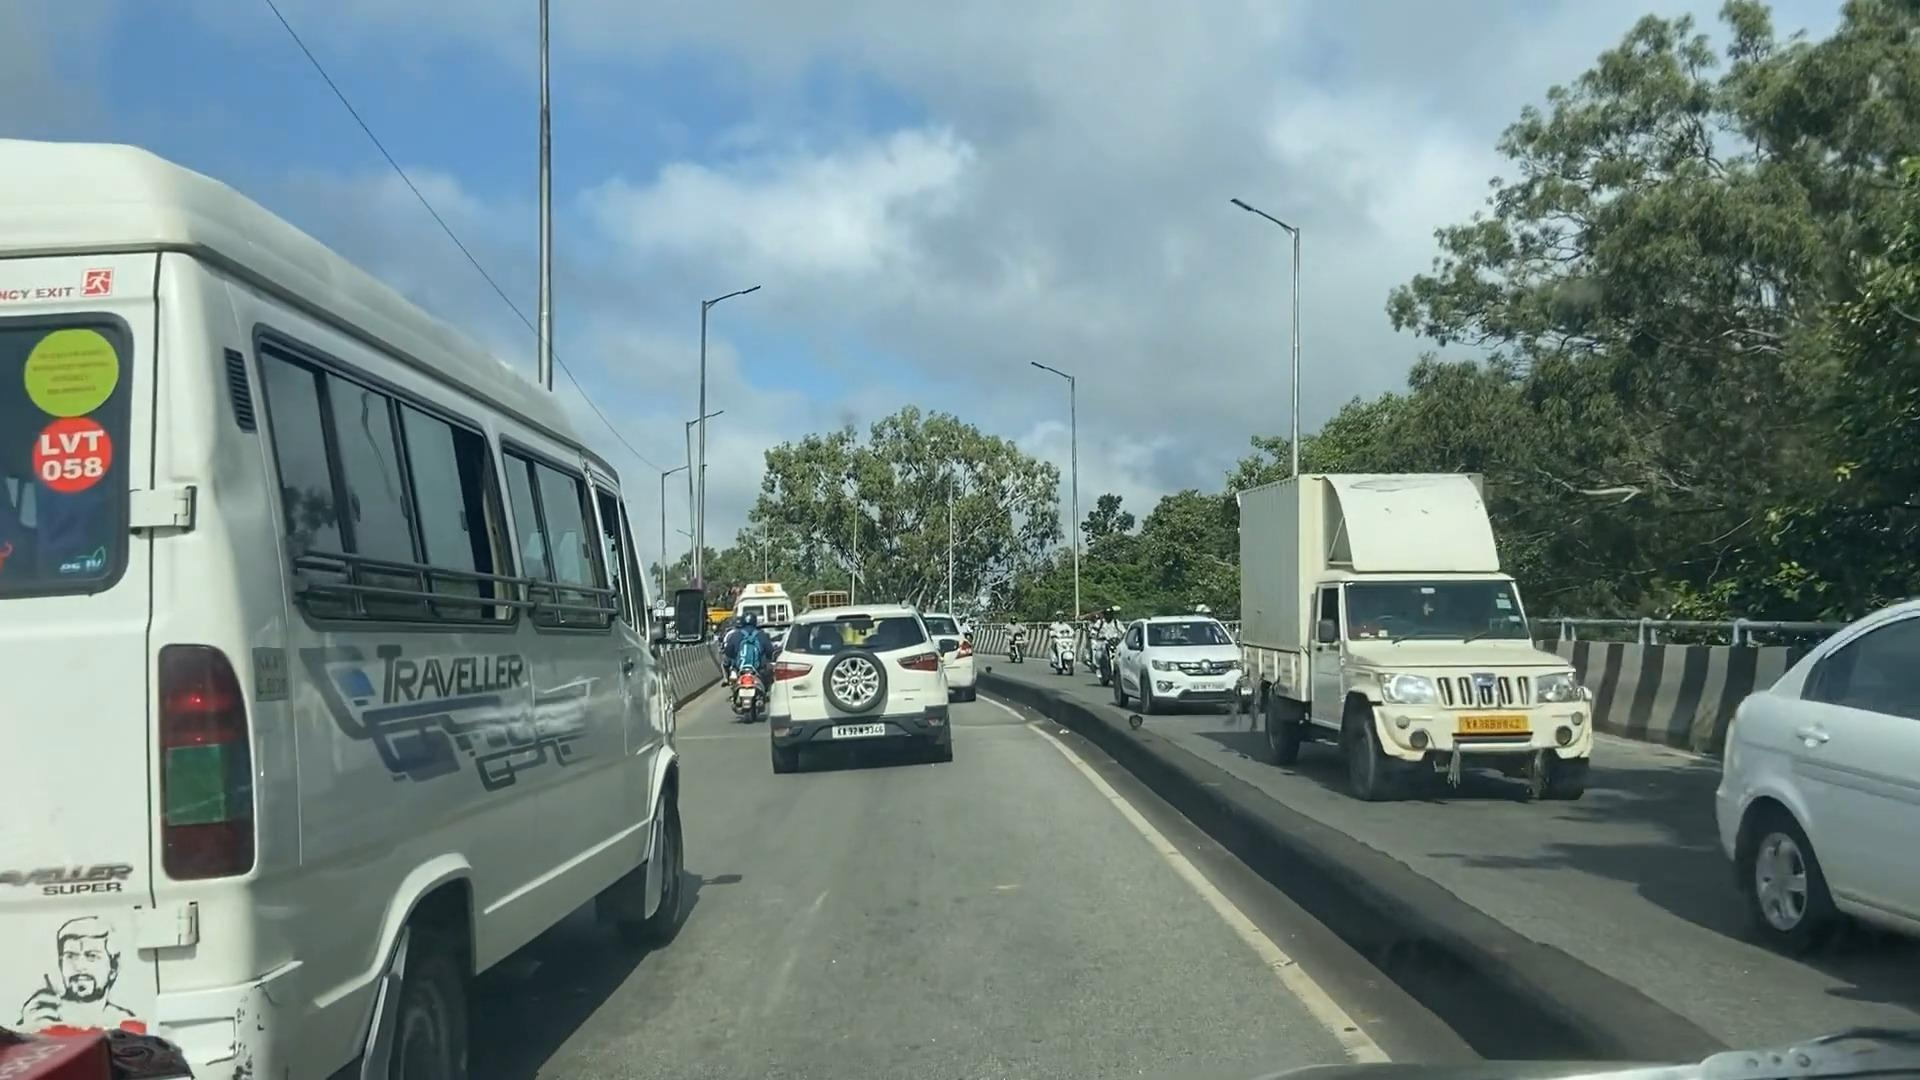HMV: (4, 131, 657, 1064)
LMV: (778, 615, 948, 754), (735, 616, 770, 707)
SpeedBump: (942, 711, 1044, 733)
